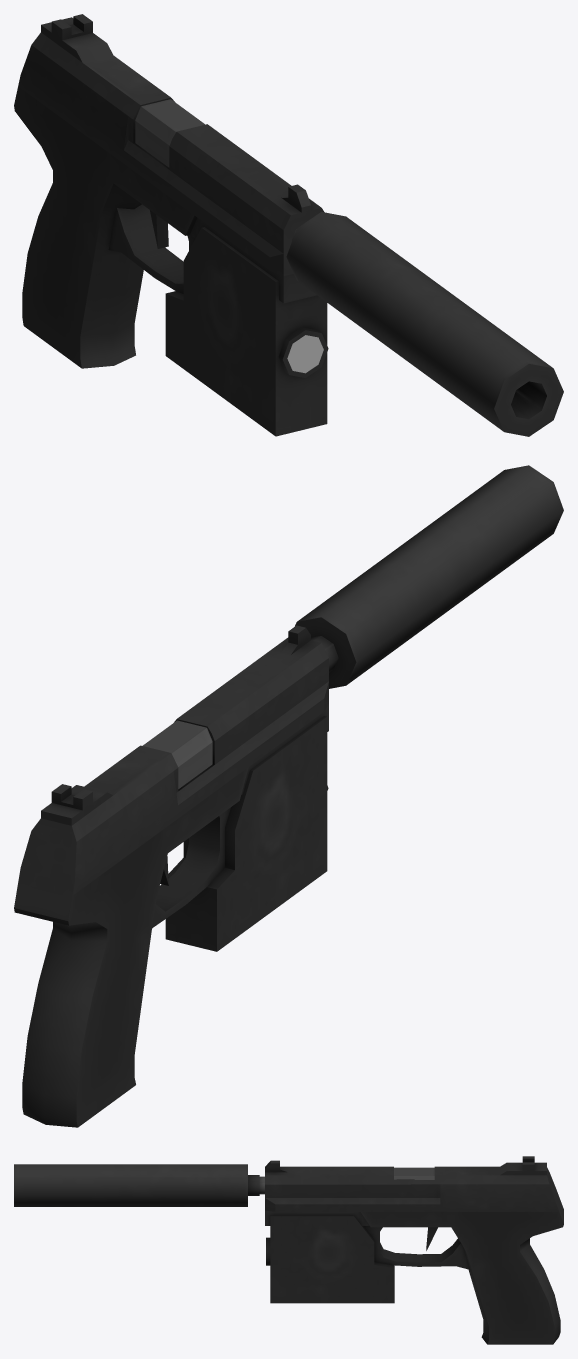
The model's file is SOCOM.fbx.
3 renders of one model, top to bottom at view 1: azimuth 30°, elevation 25°; view 2: azimuth 150°, elevation 25°; view 3: azimuth 270°, elevation 25°, orthographic. The views are drawn at different scales.
Parts seen in each view (by area): view 1: SOCOM; view 2: SOCOM; view 3: SOCOM.
Part boxes in pixels (<box>): SOCOM: <box>14,14,563,436</box>; SOCOM: <box>14,465,563,1127</box>; SOCOM: <box>14,1156,563,1344</box>.
Bounding box in the file's own units: 5.02 × 21.5 × 60.65.
